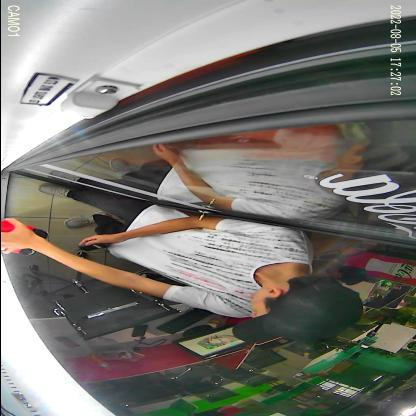red: (0, 219, 49, 256)
